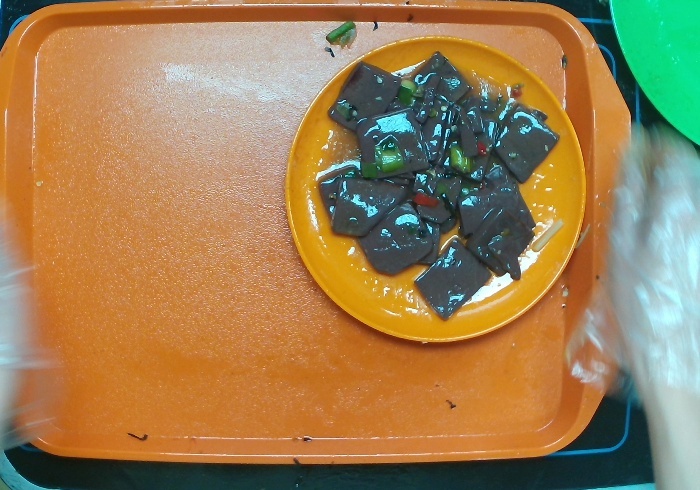HZYJPL-Ju_Huang_Yuan_Pan: (256, 21, 592, 350)
